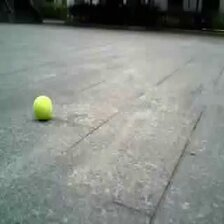tennis: (34, 96, 53, 119)
